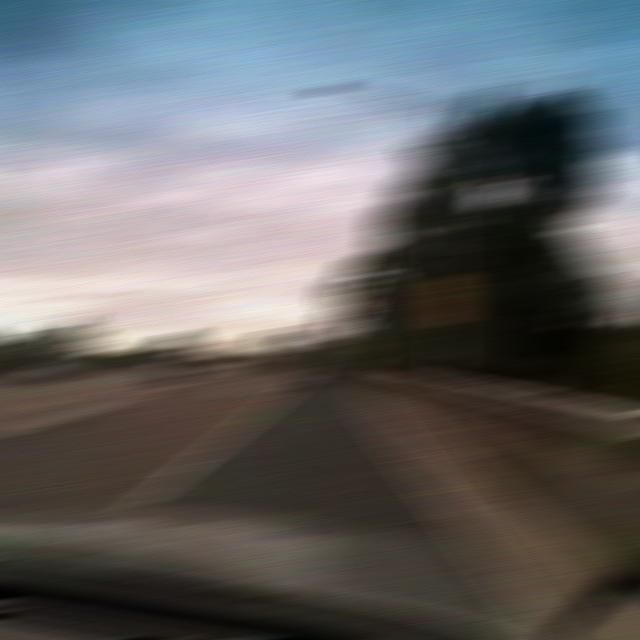speedLimit20: (424, 277, 470, 324)
